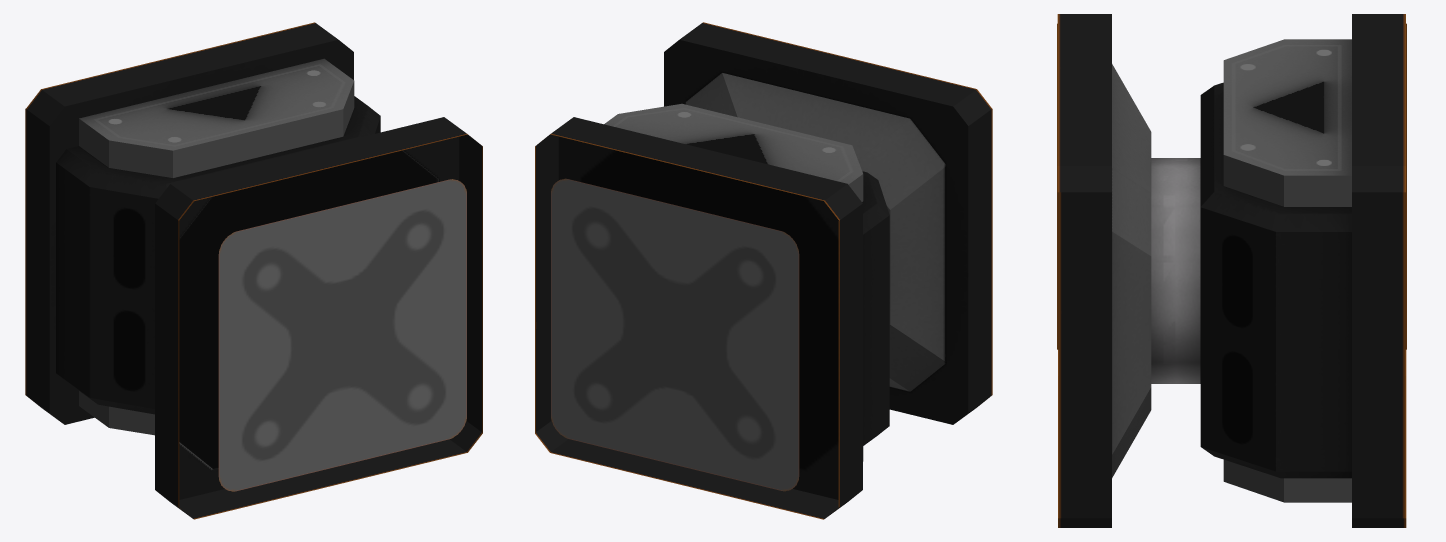
The model's file is obj_interactive_piston_off.fbx.
3 renders of one model, left to right at view 1: azimuth 30°, elevation 25°; view 2: azimuth 150°, elevation 25°; view 3: azimuth 270°, elevation 25°, orthographic. The views are drawn at different scales.
Visible parts, largest first — view 1: obj_interactive_piston_off_lod0; view 2: obj_interactive_piston_off_lod0; view 3: obj_interactive_piston_off_lod0.
Boxes of the visible parts, bbox=[...] form: obj_interactive_piston_off_lod0: bbox=[25, 22, 482, 519]; obj_interactive_piston_off_lod0: bbox=[535, 22, 992, 519]; obj_interactive_piston_off_lod0: bbox=[1057, 14, 1406, 527].
Size of the model in its own units: 1 by 1 by 1.
